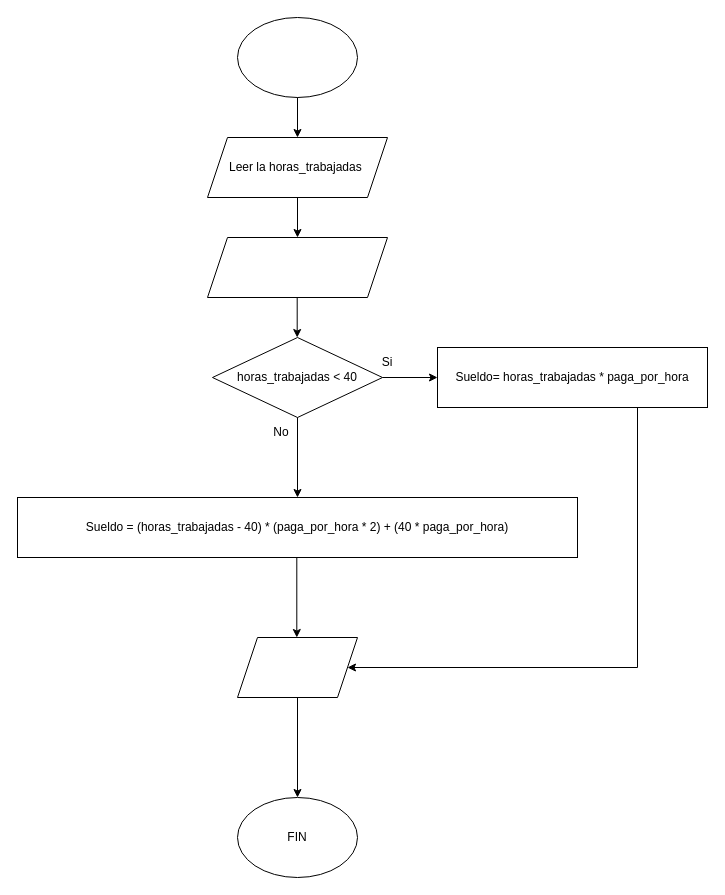
This 725x895 diagram has some shape labels left out. Here are the shapes that lost their labels. From the top down, the centre of each, then its label:
[297,57]: Inicio
[297,267]: Leer paga_por_hora
[297,667]: Mostrar sueldo
